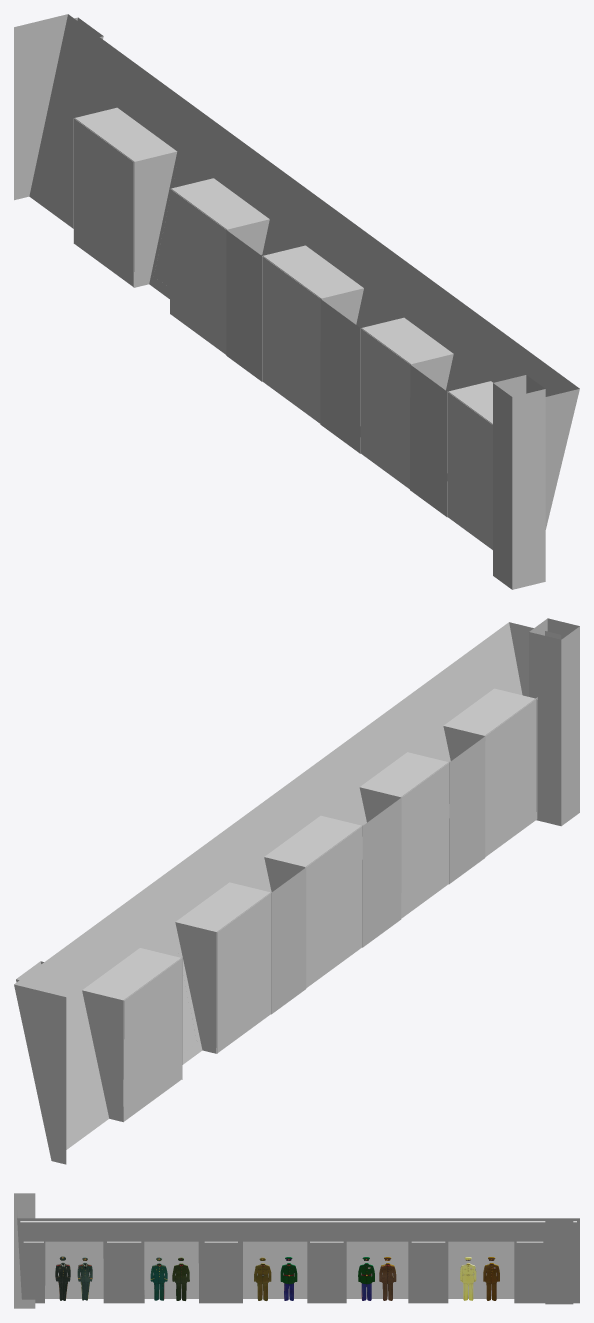
The model's file is 军服发展.fbx.
3 renders of one model, top to bottom at view 1: azimuth 30°, elevation 25°; view 2: azimuth 150°, elevation 25°; view 3: azimuth 270°, elevation 25°, orthographic. The views are drawn at different scales.
Visible parts, largest first — view 1: WallR, Paint1, red; view 2: WallR, Paint1, red; view 3: red, Paint1, Default_1, WallR, 衣服06, 衣服08, 衣服07, 衣服04, 衣服01, 衣服02, 衣服03, 衣服05 (+2 smaller).
Boxes of the visible parts, left/top/right/bottom form: WallR: left=14, top=14, right=579, bottom=529; Paint1: left=74, top=117, right=492, bottom=549; red: left=74, top=17, right=545, bottom=589; WallR: left=14, top=622, right=561, bottom=1164; Paint1: left=123, top=697, right=537, bottom=1121; red: left=16, top=618, right=579, bottom=982; red: left=14, top=1193, right=576, bottom=1308; Paint1: left=45, top=1241, right=514, bottom=1298; Default_1: left=23, top=1241, right=543, bottom=1299; WallR: left=17, top=1210, right=579, bottom=1303; 衣服06: left=254, top=1257, right=271, bottom=1300; 衣服08: left=150, top=1257, right=167, bottom=1300; 衣服07: left=172, top=1257, right=189, bottom=1300; 衣服04: left=358, top=1257, right=374, bottom=1300; 衣服01: left=483, top=1257, right=499, bottom=1300; 衣服02: left=460, top=1257, right=476, bottom=1300; 衣服03: left=379, top=1257, right=396, bottom=1300; 衣服05: left=280, top=1257, right=297, bottom=1300.
Size of the model in its own units: 447 by 1105 by 5345.
Materials: 21 (10 with a texture image).
